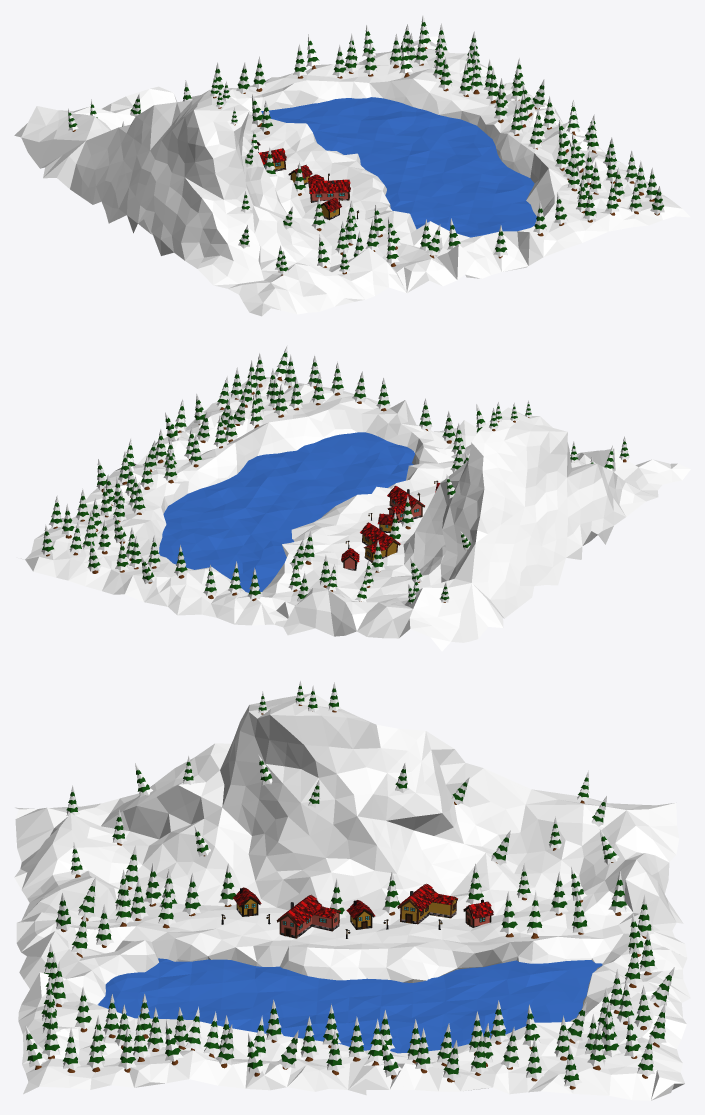
Rendered from Low Poly Winter Village.obj.
3 views of the same model, one above another, from view 1: azimuth 30°, elevation 25°; view 2: azimuth 150°, elevation 25°; view 3: azimuth 270°, elevation 25° (orthographic). The views are drawn at different scales.
Visible parts, largest first — view 1: Ground_Landscape, Lake_Landscape_plane, House3_Cube.012; view 2: Ground_Landscape, Lake_Landscape_plane, House4_Cube.587, House3_Cube.012; view 3: Ground_Landscape, Lake_Landscape_plane, House3_Cube.012, House4_Cube.587.
Boxes of the visible parts, x1,y1,x2,y2 form: Ground_Landscape: (14, 36, 690, 316); Lake_Landscape_plane: (261, 97, 536, 237); House3_Cube.012: (308, 174, 350, 202); Ground_Landscape: (20, 377, 690, 651); Lake_Landscape_plane: (159, 432, 414, 592); House4_Cube.587: (360, 522, 400, 562); House3_Cube.012: (387, 485, 424, 522); Ground_Landscape: (14, 693, 690, 1100); Lake_Landscape_plane: (97, 958, 602, 1053); House3_Cube.012: (276, 894, 340, 938); House4_Cube.587: (397, 883, 457, 924).
Bounding box in the file's own units: 95.94 × 33.68 × 95.44.
